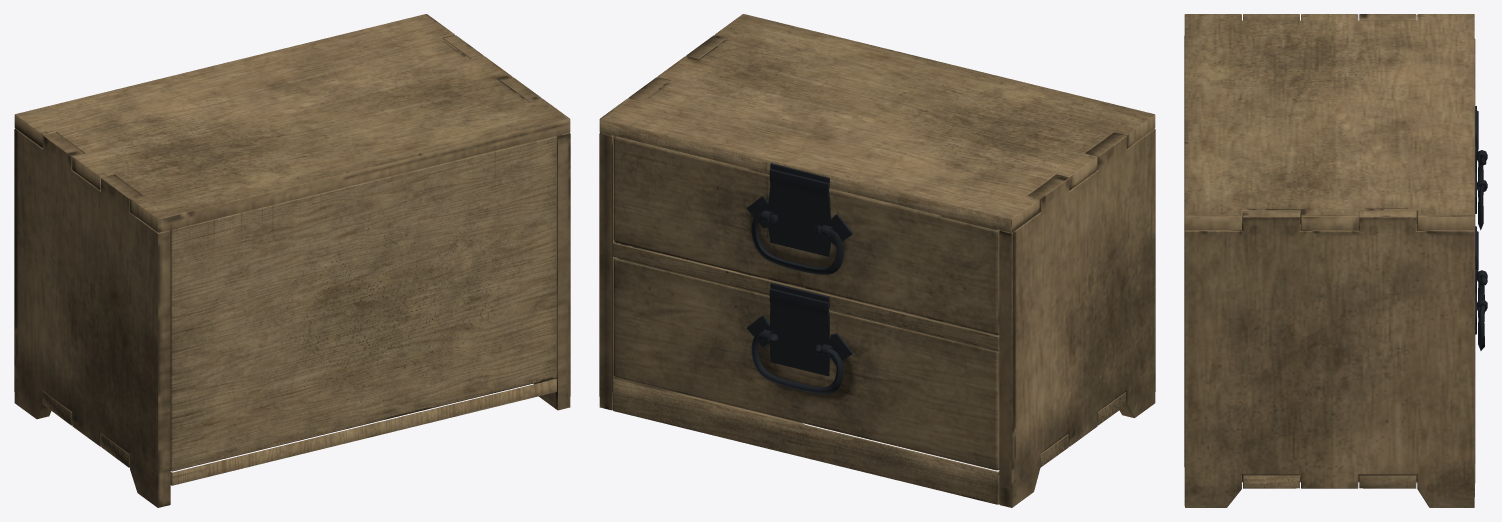
File: NNJ0810003.fbx
The picture shows the model from 3 angles, left to right: view 1: azimuth 30°, elevation 25°; view 2: azimuth 150°, elevation 25°; view 3: azimuth 270°, elevation 25°; orthographic projection.
Visible parts, largest first — view 1: smNNJ0810003; view 2: smNNJ0810003; view 3: smNNJ0810003.
Part boxes in pixels (x1,y1,x2,y2): smNNJ0810003: [14, 14, 570, 507]; smNNJ0810003: [599, 14, 1155, 507]; smNNJ0810003: [1184, 14, 1487, 507].
Size of the model in its own units: 130 by 87.32 by 82.33.
Materials: 1 (1 with a texture image).
